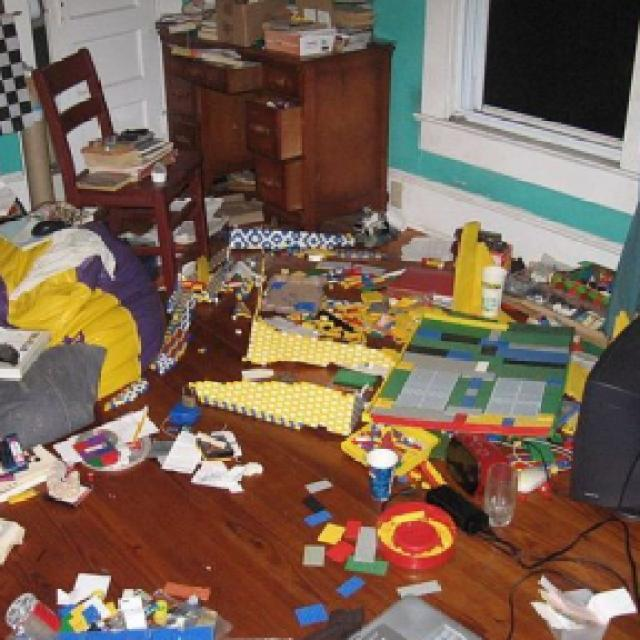mess: (158, 196, 640, 622)
